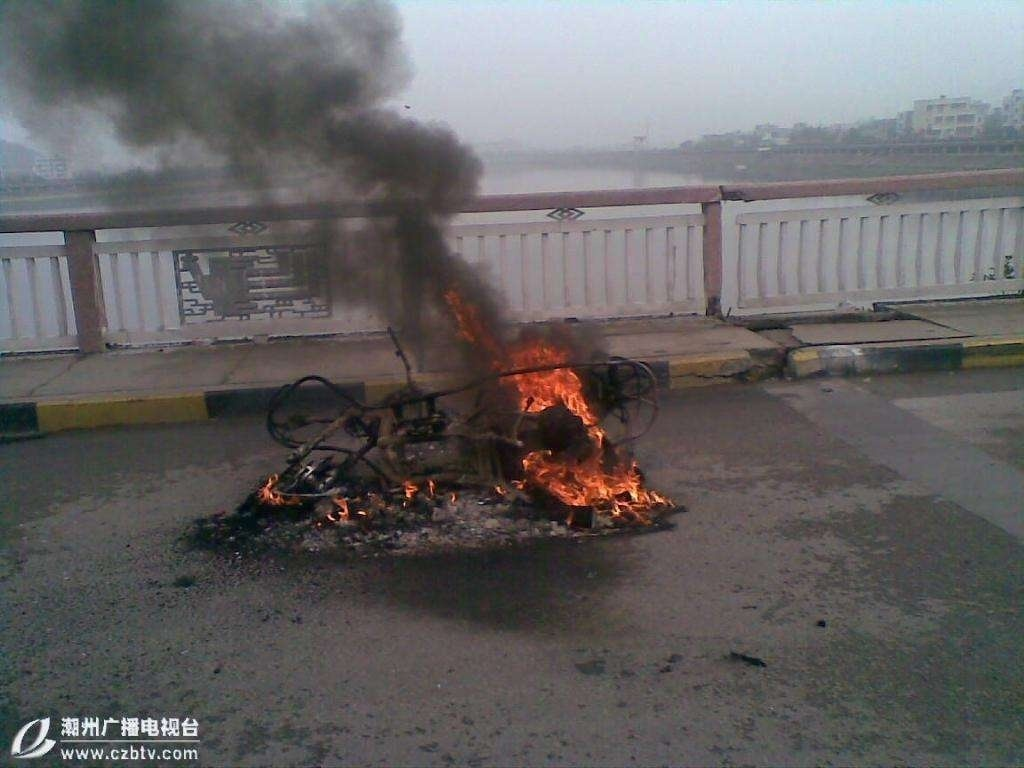fire: (259, 287, 675, 542)
